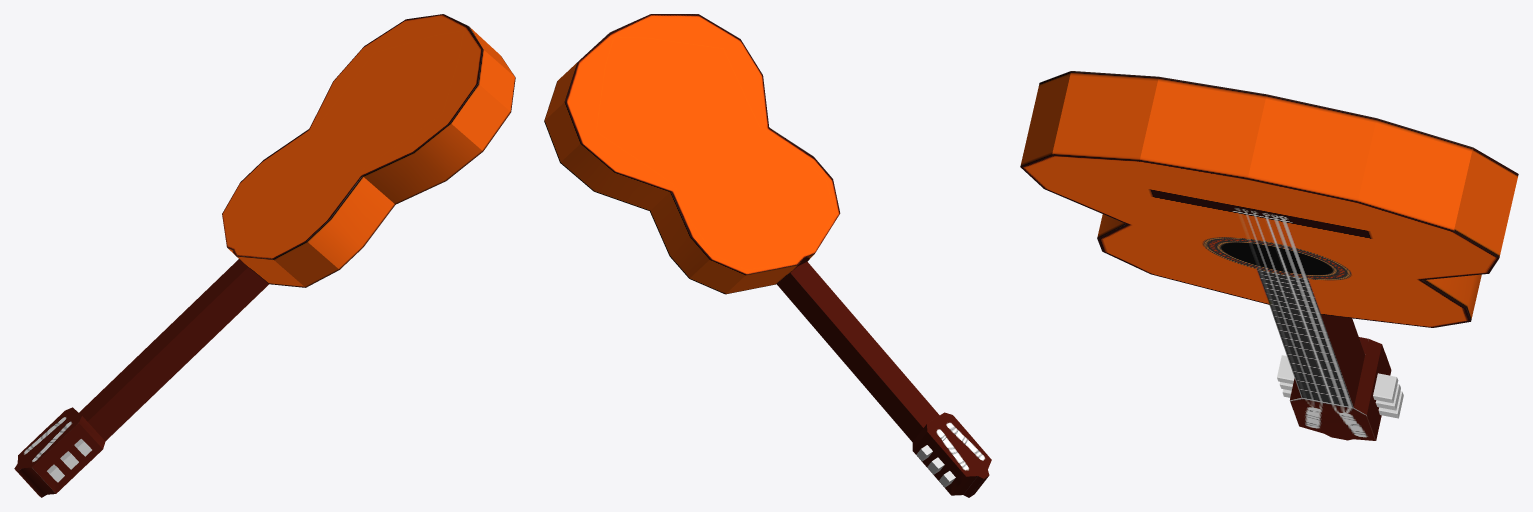
The model's file is guitarra2_000198.obj.
The picture shows the model from 3 angles, left to right: view 1: azimuth 30°, elevation 25°; view 2: azimuth 150°, elevation 25°; view 3: azimuth 270°, elevation 25°; orthographic projection. The views are drawn at different scales.
Visible parts, largest first — view 1: g2_pPlane4.001; view 2: g2_pPlane4.001; view 3: g2_pPlane4.001.
Boxes of the visible parts, <box> form: g2_pPlane4.001: <box>14,14,515,497</box>; g2_pPlane4.001: <box>544,14,991,497</box>; g2_pPlane4.001: <box>1020,71,1518,440</box>.
Bounding box in the file's own units: 10.33 × 8.28 × 5.19.
